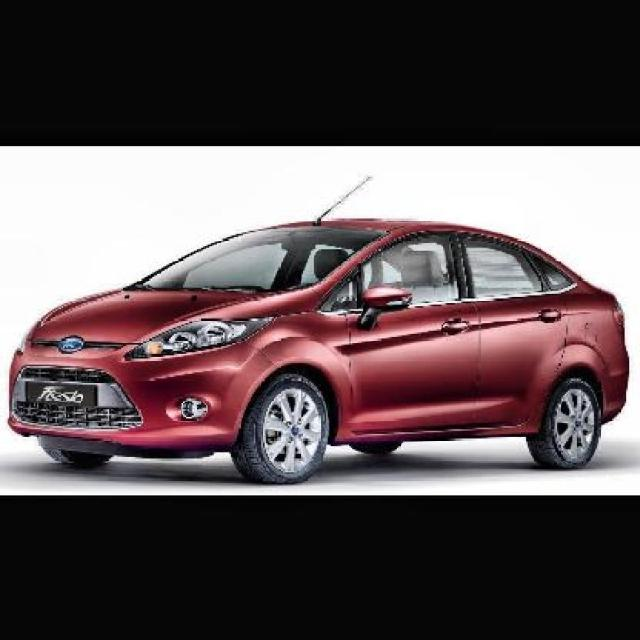maroon: (7, 216, 627, 483)
